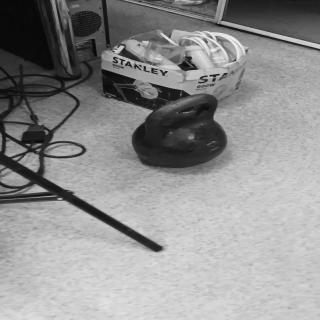kettlebell: (134, 94, 228, 168)
